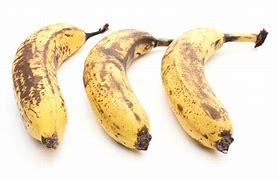banana: (81, 16, 162, 153), (163, 22, 249, 151), (11, 11, 83, 140)
